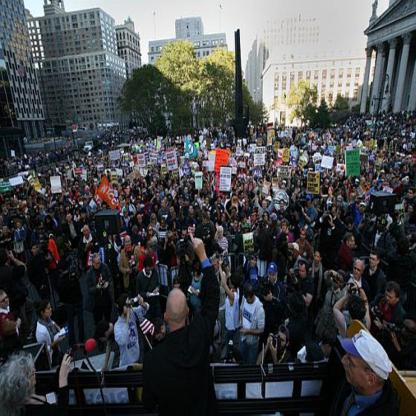face: (342, 348, 369, 386), (21, 367, 37, 387), (278, 332, 288, 352), (386, 289, 397, 307), (154, 329, 166, 342), (354, 262, 363, 279), (305, 293, 314, 308), (1, 295, 10, 308), (124, 301, 132, 315), (299, 265, 307, 279), (98, 335, 110, 344), (349, 236, 356, 251), (370, 255, 378, 268), (265, 291, 273, 302), (270, 271, 278, 282), (45, 305, 52, 317), (95, 259, 102, 270), (213, 261, 219, 272), (315, 253, 321, 264), (246, 295, 253, 304), (408, 190, 413, 201), (175, 281, 181, 290), (183, 231, 189, 240), (84, 229, 90, 238), (301, 231, 306, 241), (331, 208, 336, 218), (292, 249, 297, 259), (32, 247, 38, 255), (347, 224, 353, 232), (126, 239, 131, 248), (230, 279, 235, 288), (189, 206, 194, 215), (283, 223, 288, 232), (252, 258, 257, 267), (409, 206, 414, 215), (147, 267, 152, 275), (68, 215, 73, 223), (170, 207, 175, 215), (204, 218, 209, 226), (245, 195, 250, 203), (219, 229, 223, 238), (195, 271, 200, 278), (150, 228, 154, 236), (235, 221, 239, 229), (338, 199, 342, 207), (308, 199, 312, 207), (169, 197, 173, 205), (361, 207, 366, 213), (137, 206, 141, 213), (163, 201, 167, 208), (264, 213, 268, 220), (246, 204, 250, 211), (103, 206, 107, 213), (5, 229, 9, 235), (83, 213, 87, 219), (120, 196, 124, 202), (125, 212, 129, 218), (162, 222, 166, 228), (139, 218, 143, 224), (264, 203, 268, 209), (169, 230, 172, 237), (119, 184, 122, 191), (186, 188, 189, 195), (298, 180, 301, 187), (161, 182, 164, 189), (47, 220, 51, 225), (18, 223, 22, 228), (4, 207, 8, 212), (153, 218, 157, 223), (22, 207, 26, 212), (40, 200, 43, 206), (157, 195, 160, 201), (174, 213, 177, 219), (330, 188, 333, 194), (281, 202, 284, 208), (219, 199, 222, 205), (353, 187, 356, 193), (8, 205, 11, 210), (16, 200, 19, 205), (67, 206, 70, 211), (88, 188, 91, 193), (77, 210, 80, 215), (73, 186, 76, 191), (127, 199, 130, 204), (181, 199, 184, 204), (155, 207, 158, 212), (390, 169, 393, 174), (242, 194, 245, 199), (207, 199, 210, 204), (234, 211, 237, 216), (268, 192, 271, 197), (19, 201, 22, 205), (73, 201, 76, 205), (157, 175, 159, 180), (42, 183, 44, 187)
